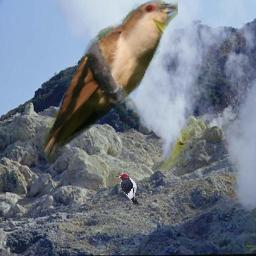Cuckoo: (37, 0, 178, 166)
Woodpecker: (116, 173, 138, 205)
